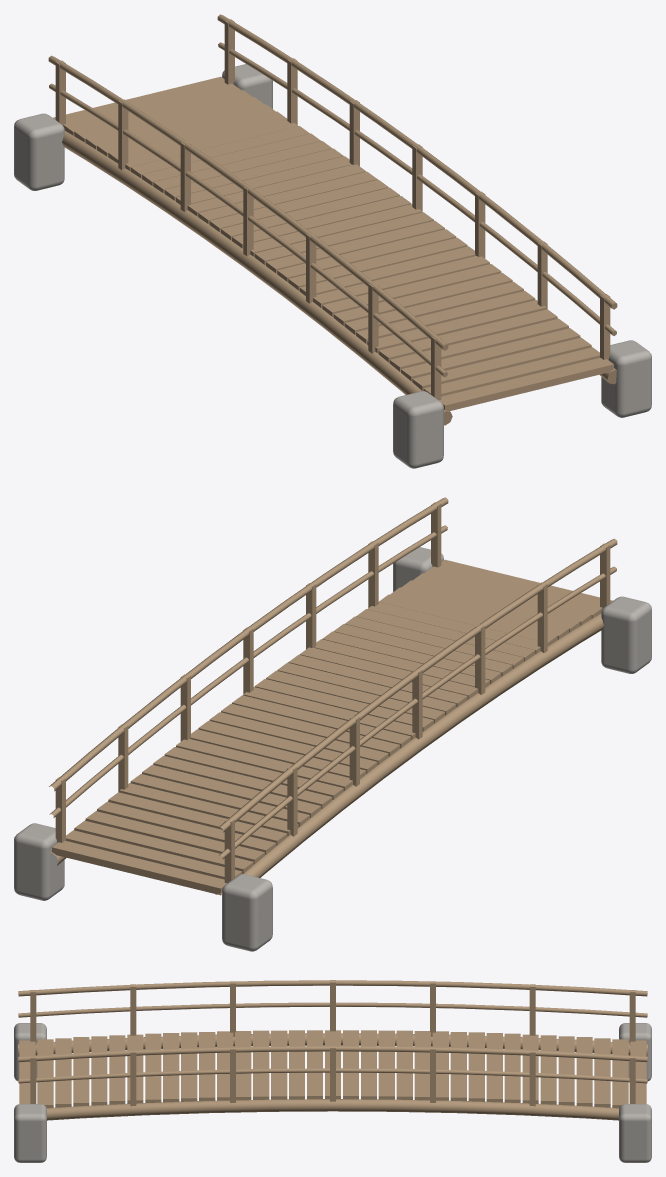
Rendered from bridge_wood.glb.
3 views of the same model, one above another, from view 1: azimuth 30°, elevation 25°; view 2: azimuth 150°, elevation 25°; view 3: azimuth 270°, elevation 25° (orthographic). The views are drawn at different scales.
Parts seen in each view (by area): view 1: Bridge; view 2: Bridge; view 3: Bridge.
Part boxes in pixels (bbox=[...]): Bridge: bbox=[14, 14, 651, 468]; Bridge: bbox=[14, 497, 651, 951]; Bridge: bbox=[14, 980, 651, 1162].
Size of the model in its own units: 3.75 by 1.92 by 10.65.
